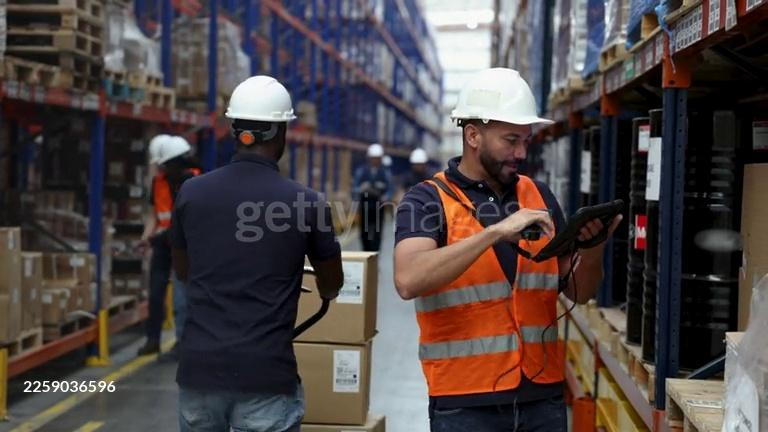helmet: (449, 68, 555, 130), (225, 75, 298, 122), (149, 134, 190, 164), (409, 148, 428, 164), (367, 144, 385, 157)
person: (392, 67, 625, 432), (171, 74, 346, 432), (132, 132, 203, 355), (350, 141, 395, 251), (395, 147, 438, 193)
